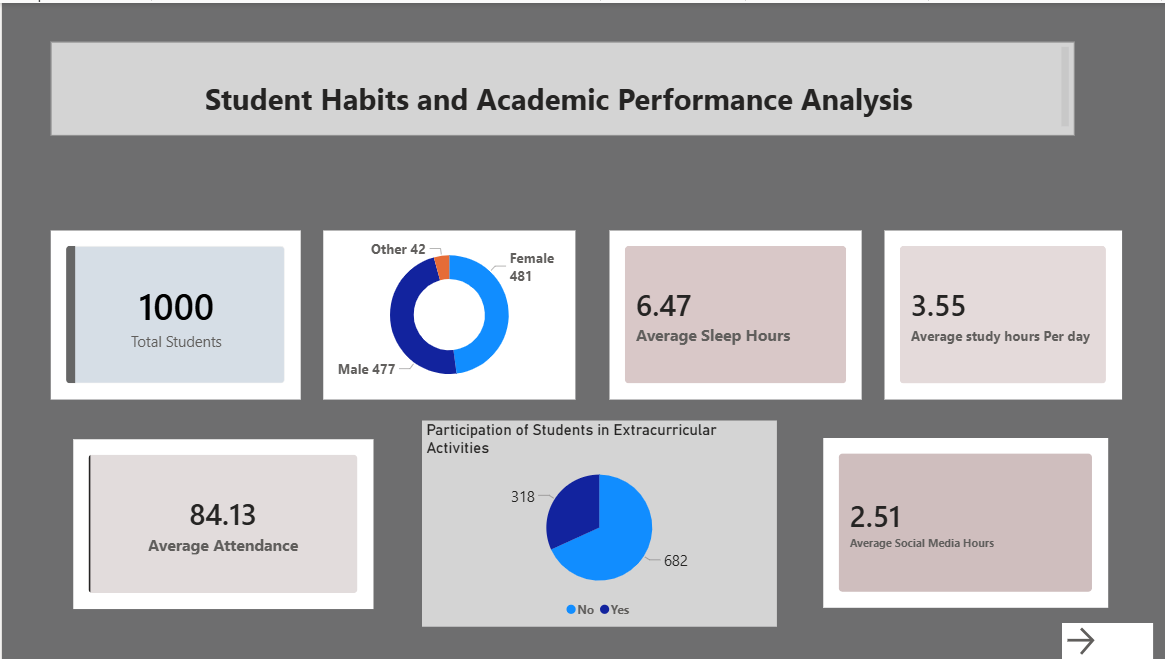

This screenshot's page, from the dashboard's own definition file:
{"tool":"powerbi","page":{"name":"Page 1","canvas":[1280,720],"ordinal":0},"visuals":[{"type":"cardVisual","fields":{"Data":["student_habits_performance (2).Total Students"]},"box":[53.5,249.7,274.4,185.2],"z":0},{"type":"donutChart","fields":{"Category":["student_habits_performance (2).Gender"],"Y":["student_habits_performance (2).Total Students"]},"box":[352.7,249.7,277.2,185.2],"z":1000},{"type":"cardVisual","fields":{"Data":["student_habits_performance (2).Average study hours"]},"box":[968.8,249.7,260.7,185.2],"z":2000},{"type":"cardVisual","fields":{"Data":["student_habits_performance (2).Average Sleep Hours"]},"box":[666.9,249.7,277.2,185.2],"z":3000},{"type":"pieChart","title":"Participation of Students in Extracurricular Activities","fields":{"Category":["student_habits_performance (2).extracurricular_participation"],"Y":["CountNonNull(student_habits_performance (2).student_id)"]},"box":[461.1,458.3,389.7,226.4],"z":4000},{"type":"cardVisual","fields":{"Data":["student_habits_performance (2).Average Attendance"]},"box":[78.2,478.9,329.3,186.6],"z":5000},{"type":"cardVisual","fields":{"Data":["student_habits_performance (2).Average Social Media Hours"]},"box":[901.5,477.5,312.9,186.6],"z":6000},{"type":"textbox","box":[53.5,42.5,1123.8,102.9],"z":7000},{"type":"actionButton","box":[1163.6,680.6,100.2,39.8],"z":8000}]}

Visuals, with their boxes in screenshot pixels (x1, y1, x2, y2), scaled from the page's 1280x720 canvas onto the 1165x659 screenshot:
cardVisual - student_habits_performance (2).Total Students: (49,229,298,398)
donutChart - student_habits_performance (2).Gender x student_habits_performance (2).Total Students: (321,229,573,398)
cardVisual - student_habits_performance (2).Average study hours: (882,229,1119,398)
cardVisual - student_habits_performance (2).Average Sleep Hours: (607,229,859,398)
"Participation of Students in Extracurricular Activities" pieChart: (420,419,774,627)
cardVisual - student_habits_performance (2).Average Attendance: (71,438,371,609)
cardVisual - student_habits_performance (2).Average Social Media Hours: (821,437,1105,608)
textbox: (49,39,1072,133)
actionButton: (1059,623,1150,658)
